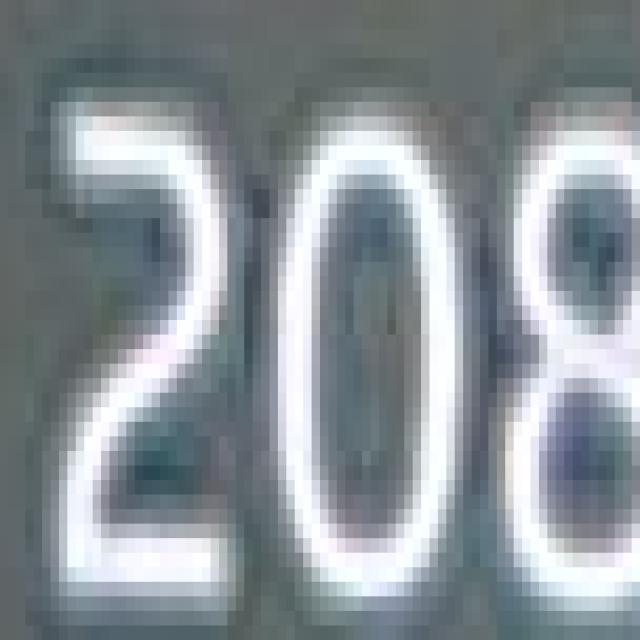character: (262, 82, 476, 621), (41, 74, 250, 618), (490, 83, 640, 630)
